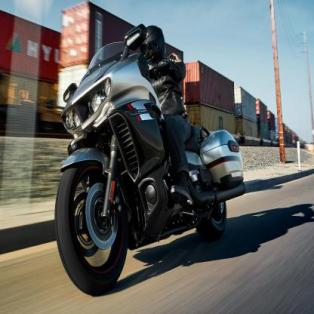Motocicleta: (41, 59, 250, 297)
